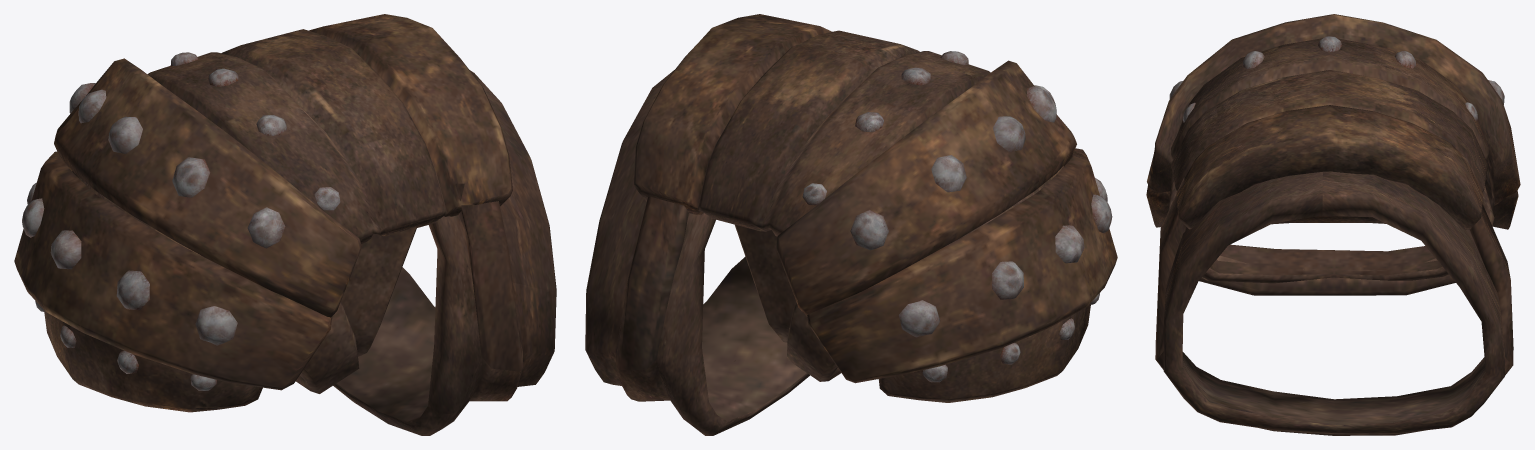
3 renders of one model, left to right at view 1: azimuth 30°, elevation 25°; view 2: azimuth 150°, elevation 25°; view 3: azimuth 270°, elevation 25°, orthographic. The views are drawn at different scales.
Visible parts, largest first — view 1: WP_A_1150, WP_A_1150.001; view 2: WP_A_1150, WP_A_1150.001; view 3: WP_A_1150, WP_A_1150.001.
Part boxes in pixels (left/top/right/bottom): WP_A_1150: left=14, top=14, right=556, bottom=435; WP_A_1150.001: left=22, top=52, right=340, bottom=390; WP_A_1150: left=585, top=14, right=1117, bottom=435; WP_A_1150.001: left=802, top=51, right=1112, bottom=382; WP_A_1150: left=1146, top=14, right=1520, bottom=435; WP_A_1150.001: left=1169, top=36, right=1504, bottom=122.
Bounding box in the file's own units: 15.46 × 12.62 × 13.5.
Materials: 2 (2 with a texture image).
